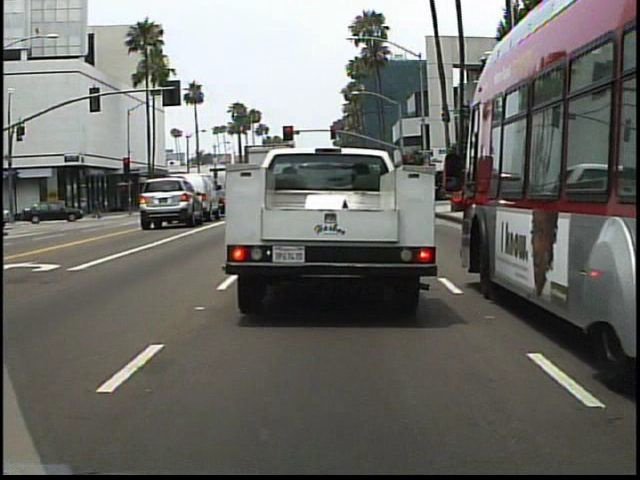person: (49, 193, 69, 224)
